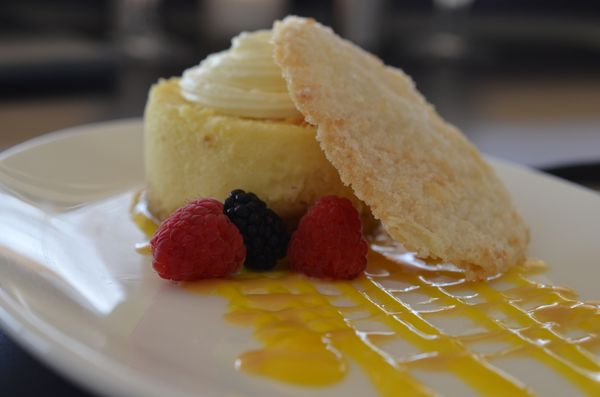sushi: (142, 16, 530, 285)
